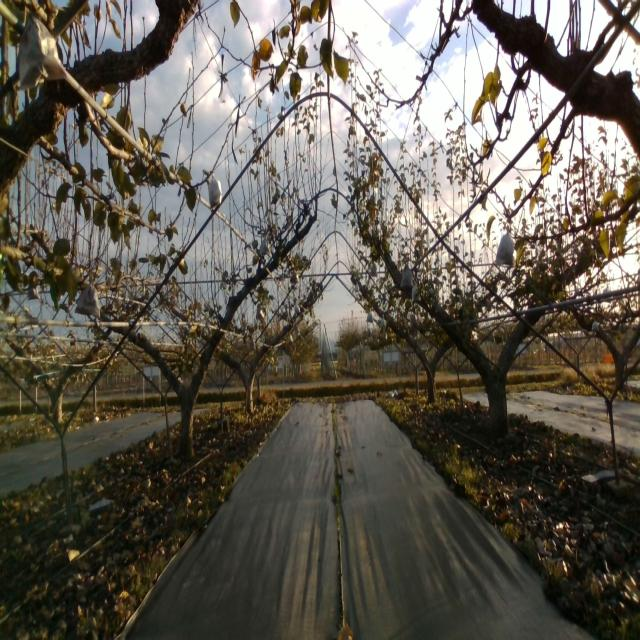pearbags: (18, 12, 68, 90), (494, 225, 515, 268), (207, 171, 223, 208), (399, 264, 414, 288), (259, 236, 271, 258)
